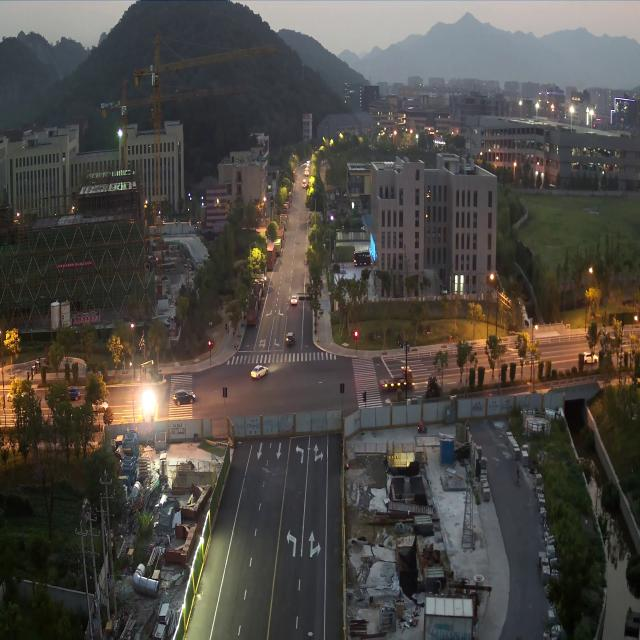drone: (143, 256, 158, 262)
